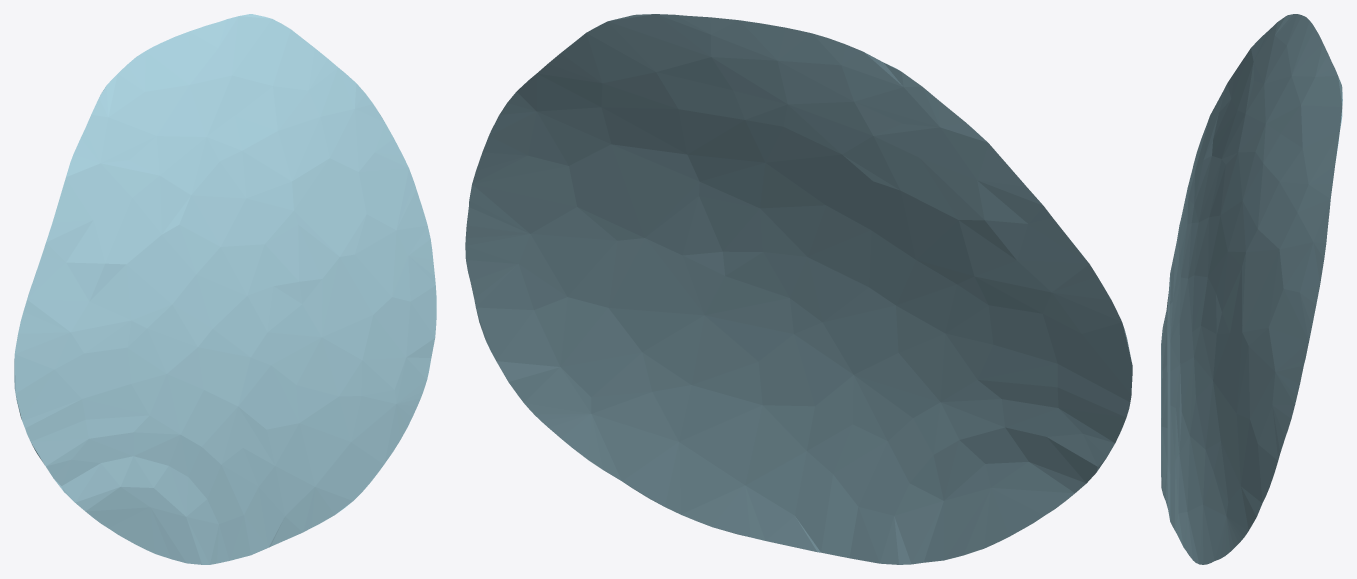
The model's file is tumorProjExpUpdate.obj.
3 views of the same model, side by side, from view 1: azimuth 30°, elevation 25°; view 2: azimuth 150°, elevation 25°; view 3: azimuth 270°, elevation 25° (orthographic). The views are drawn at different scales.
Visible parts, largest first — view 1: grp1; view 2: grp1; view 3: grp1.
Part boxes in pixels (x1,y1,x2,y2): grp1: [14, 14, 436, 564]; grp1: [465, 14, 1132, 564]; grp1: [1161, 14, 1342, 564].
Bounding box in the file's own units: 0.0462 × 0.0443 × 0.0151.
